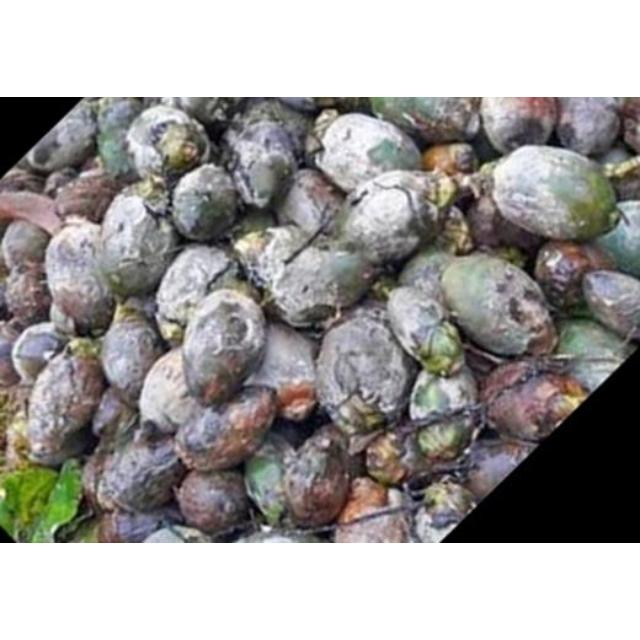damaged: (312, 306, 418, 436), (439, 252, 557, 360), (24, 342, 108, 466), (334, 172, 442, 268), (184, 292, 270, 410), (173, 382, 279, 474), (262, 240, 372, 328), (314, 112, 424, 194), (95, 192, 178, 300), (43, 223, 117, 335), (280, 423, 356, 529), (154, 244, 240, 336), (386, 284, 466, 378), (220, 118, 300, 212), (123, 104, 210, 184), (98, 302, 164, 400), (170, 164, 240, 242), (580, 268, 640, 342)
